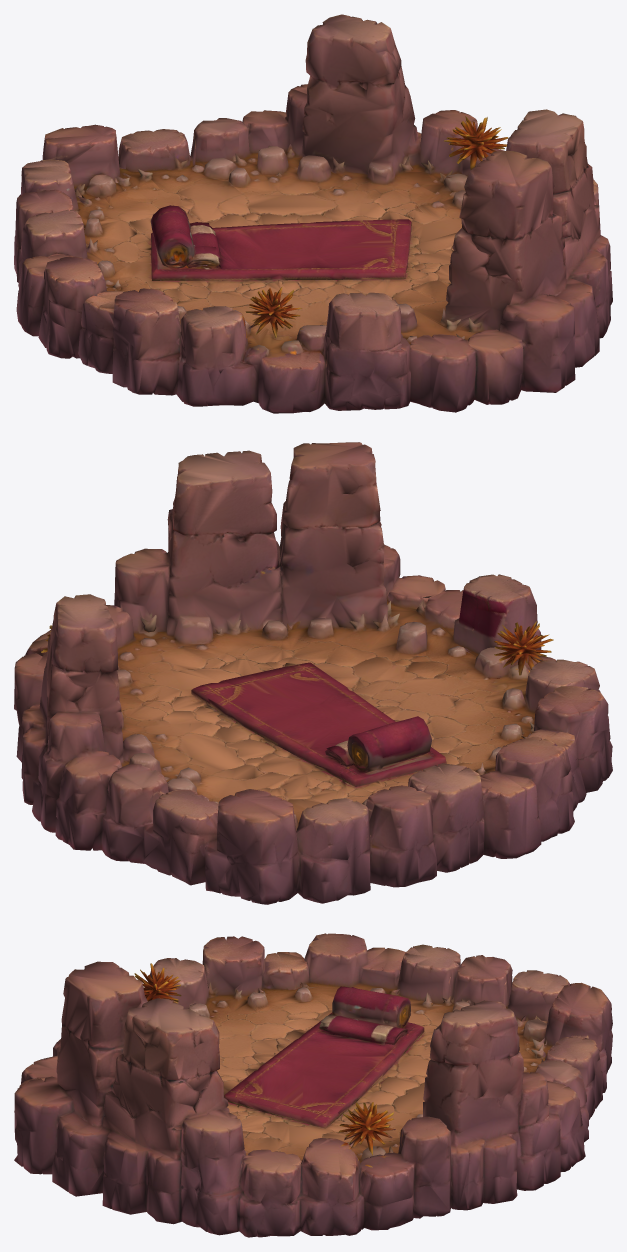
Rendered from cama_aventurero_alicanto.glb.
The picture shows the model from 3 angles, top to bottom: view 1: azimuth 30°, elevation 25°; view 2: azimuth 150°, elevation 25°; view 3: azimuth 270°, elevation 25°; orthographic projection. The views are drawn at different scales.
Parts seen in each view (by area): view 1: cama_aventurero_alicanto; view 2: cama_aventurero_alicanto; view 3: cama_aventurero_alicanto.
Boxes of the visible parts, x1,y1,x2,y2 form: cama_aventurero_alicanto: (14,14,612,413); cama_aventurero_alicanto: (14,442,612,904); cama_aventurero_alicanto: (14,933,612,1237).
Size of what is drawn, in the model's own units: 1.87 by 0.6839 by 2.
Materials: 1 (1 with a texture image).
